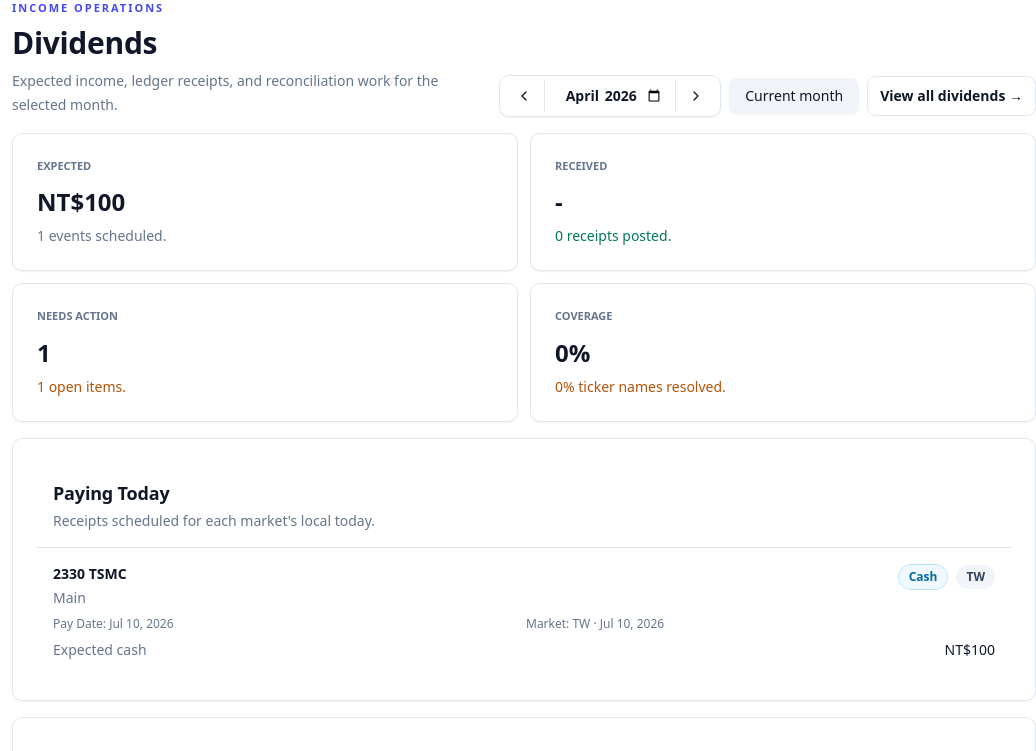
Test: DividendCalendarClient › keeps daily highlights independent from month navigation
Step 1. Click the button named "Next month" → (696, 96), box 676,80 -> 716,112
(page scrolled)
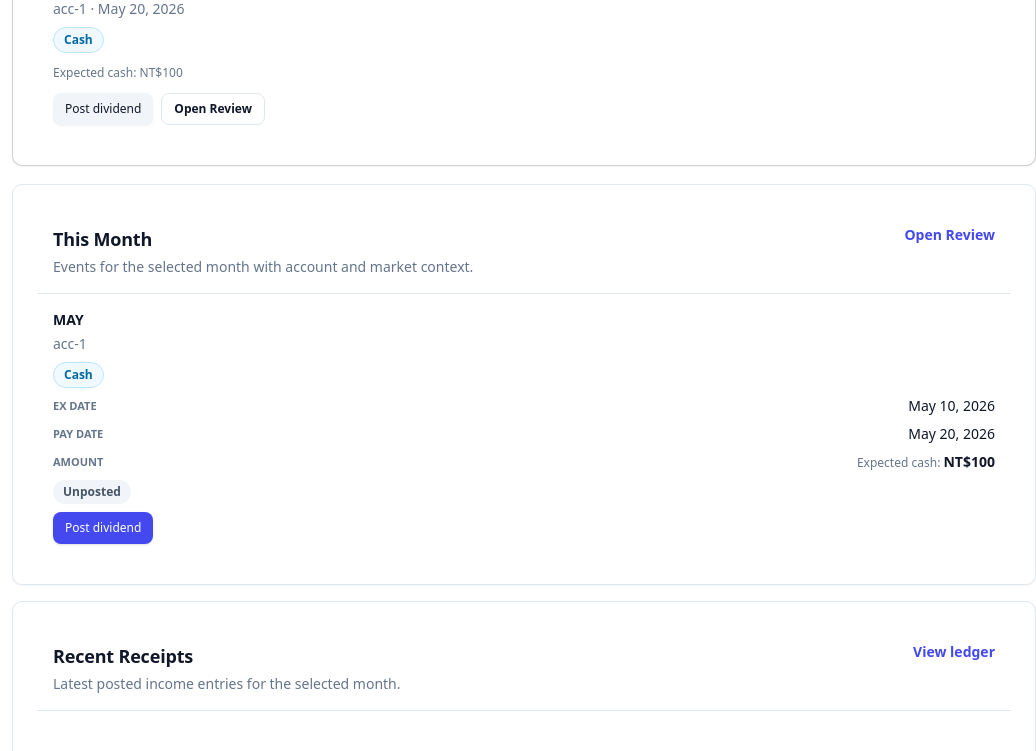
Now the element with test id "dividends-this-month" shows "MAY", box 53,310 -> 84,328
